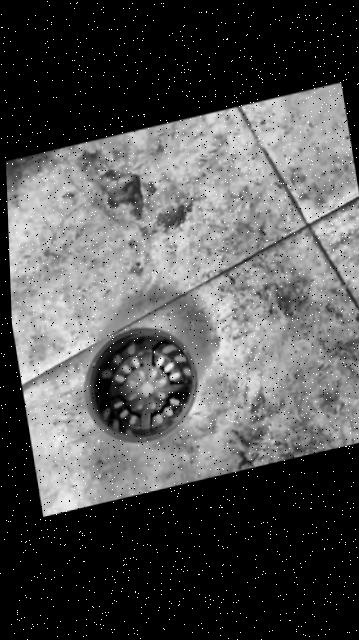pot: (76, 314, 202, 456)
